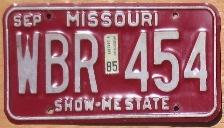4: (182, 28, 212, 94), (123, 28, 151, 94)
5: (151, 28, 182, 94)
B: (43, 30, 72, 95)
R: (73, 30, 102, 95)
W: (13, 27, 43, 97)
